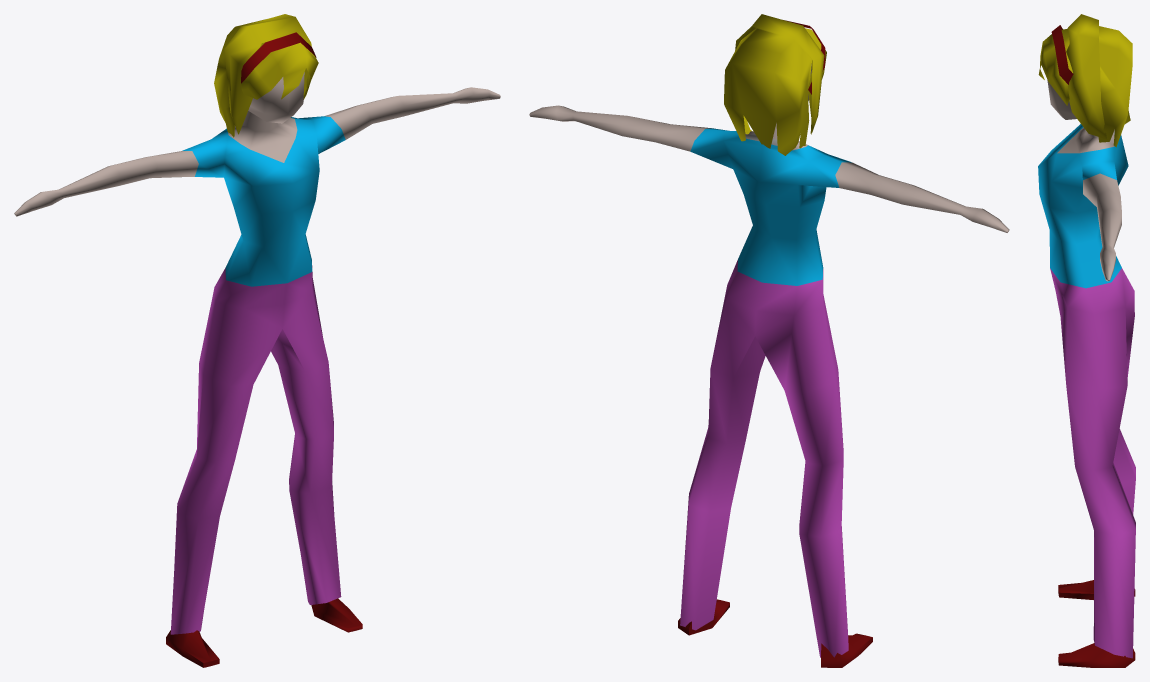
Rendered from low_poly_character.fbx.
3 views of the same model, side by side, from view 1: azimuth 30°, elevation 25°; view 2: azimuth 150°, elevation 25°; view 3: azimuth 270°, elevation 25° (orthographic). The views are drawn at different scales.
Visible parts, largest first — view 1: ch_female_01; view 2: ch_female_01; view 3: ch_female_01.
Boxes of the visible parts, x1,y1,x2,y2 form: ch_female_01: (14, 14, 500, 667); ch_female_01: (529, 14, 1009, 667); ch_female_01: (1038, 14, 1135, 667).
Bounding box in the file's own units: 148 × 181 × 26.5.
